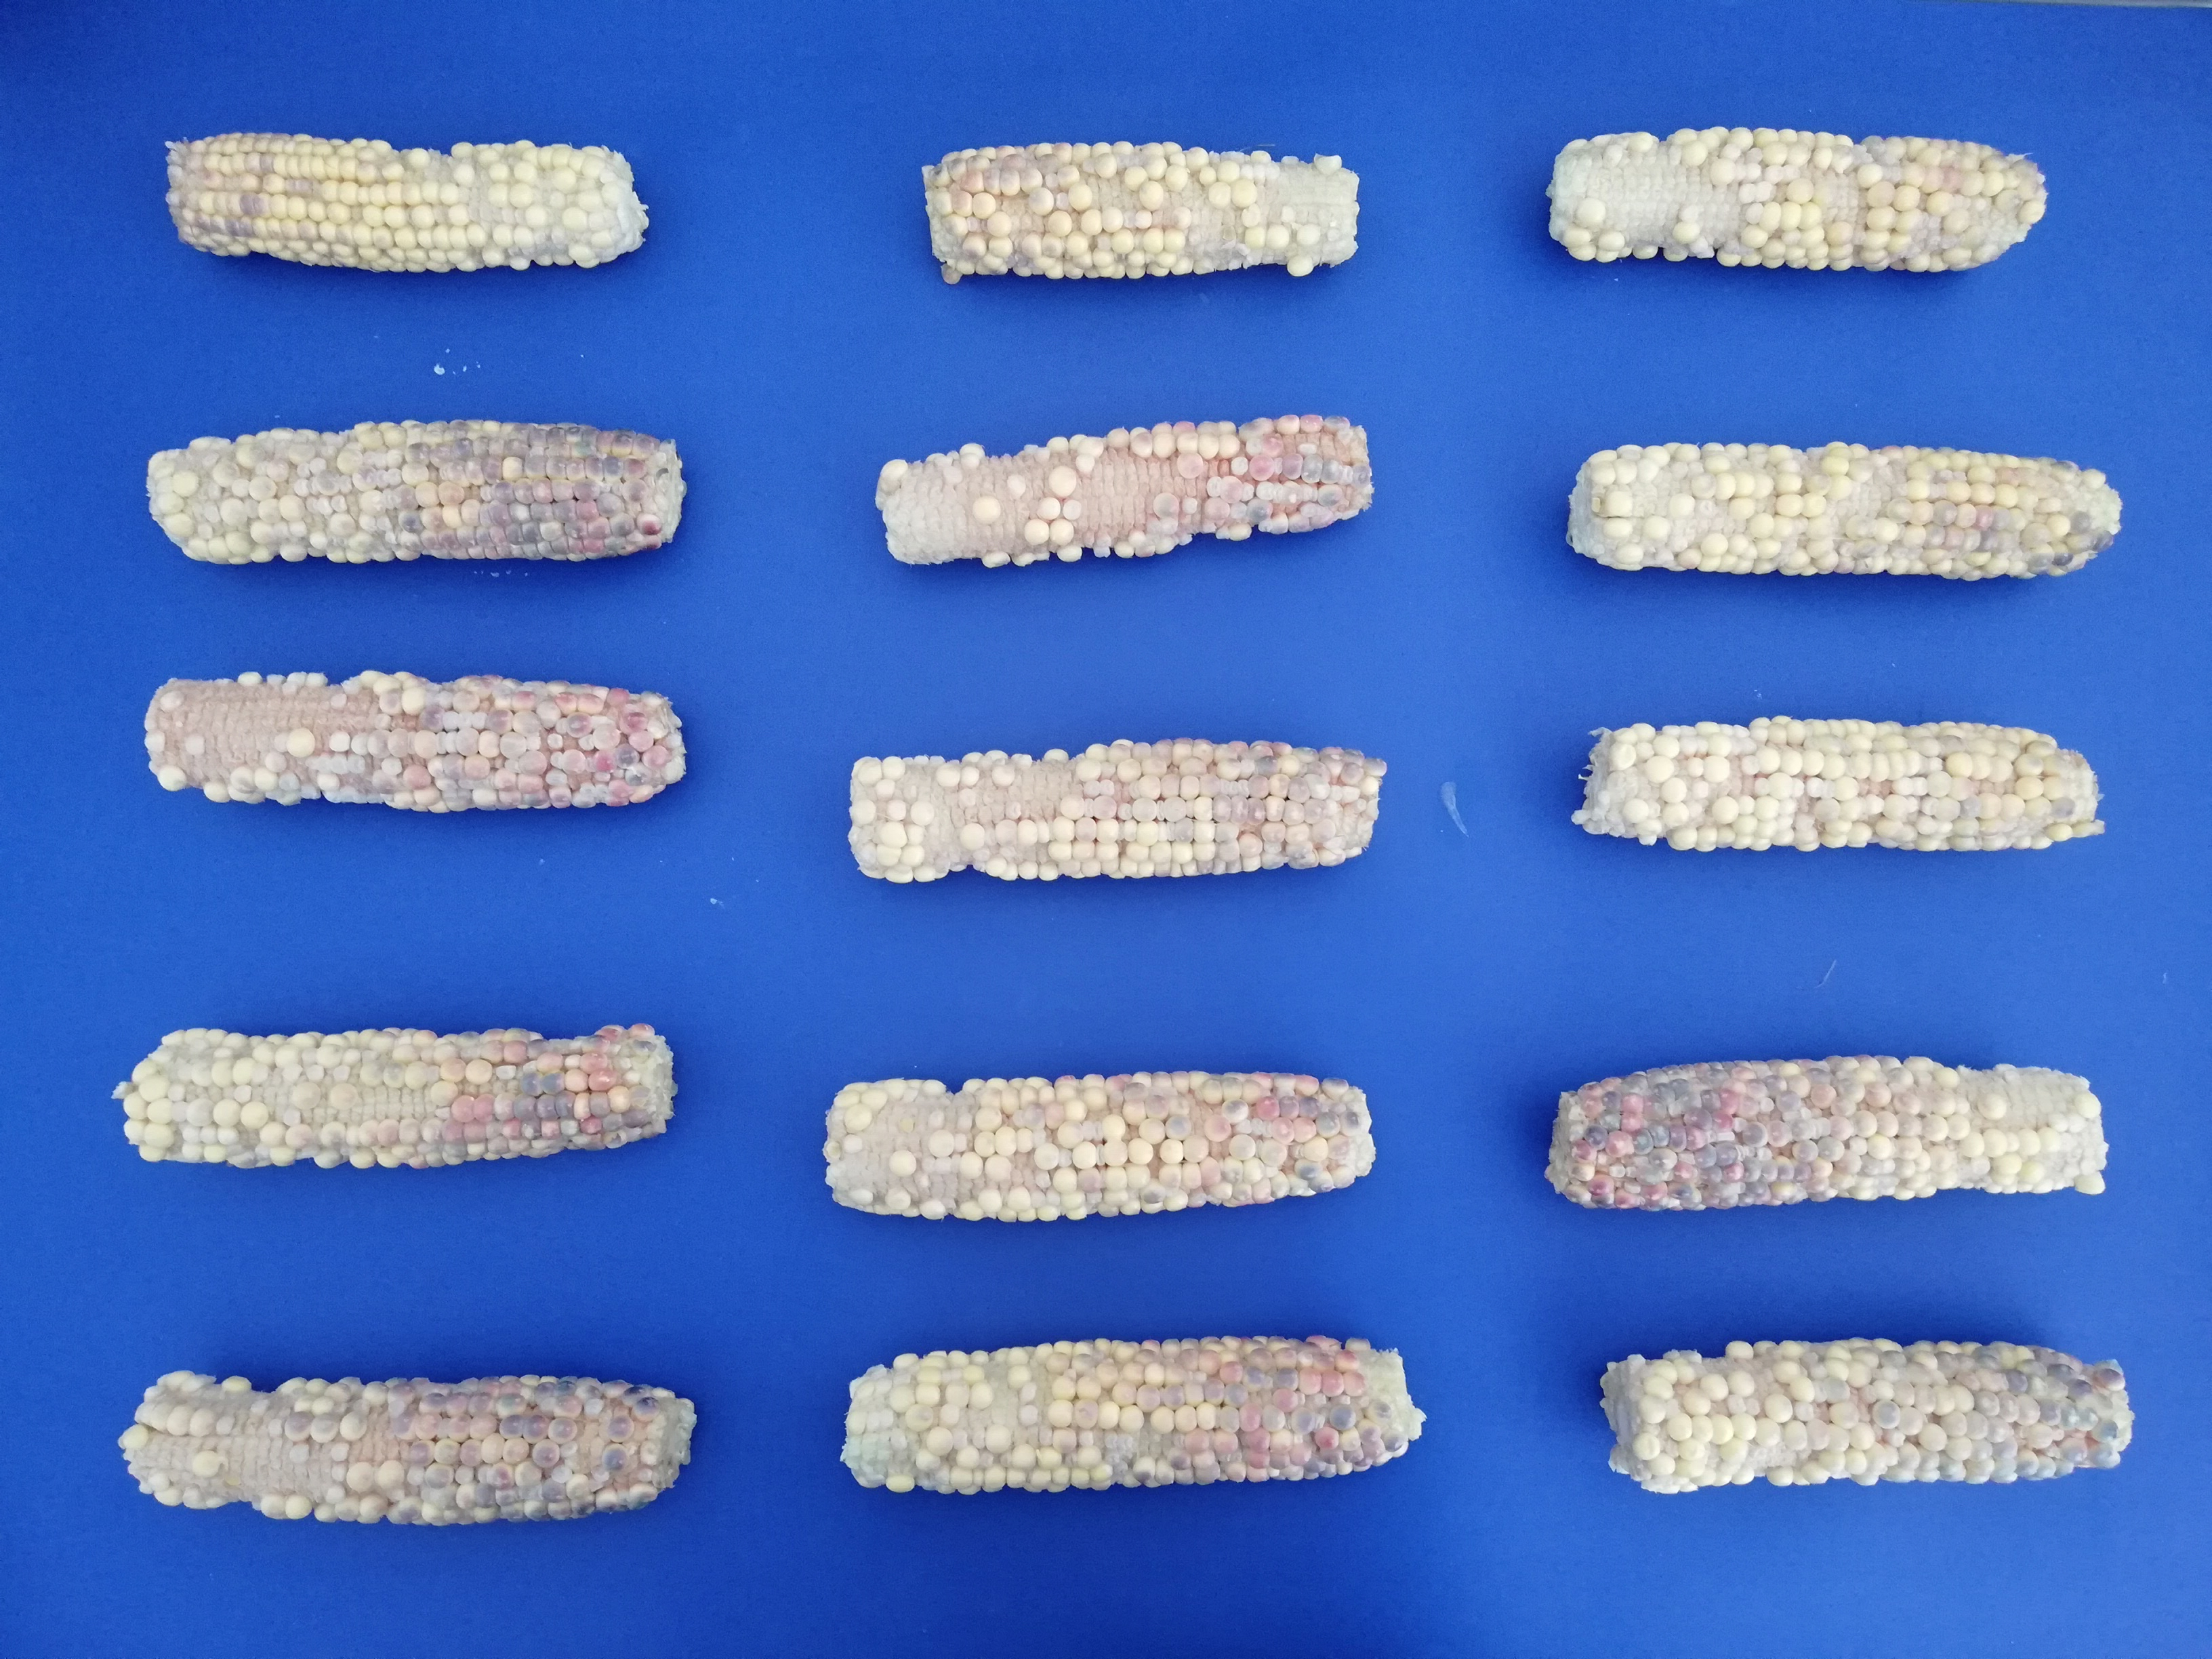corn: (284, 721, 319, 756), (336, 1408, 366, 1446), (1045, 464, 1073, 502), (1043, 1401, 1075, 1432), (1696, 1371, 1726, 1399), (463, 1061, 495, 1087), (1068, 185, 1096, 213), (927, 1425, 953, 1455), (1054, 791, 1080, 821), (247, 471, 275, 497), (1642, 512, 1669, 540), (1926, 1115, 1952, 1143), (1897, 183, 1919, 214), (1066, 1147, 1094, 1171), (244, 1103, 268, 1129), (451, 160, 472, 190), (1789, 176, 1811, 200), (1155, 430, 1174, 455), (1674, 216, 1695, 237), (1240, 183, 1258, 206)
ear: (115, 1364, 702, 1534), (113, 1018, 688, 1180), (1601, 1331, 2139, 1500), (1566, 436, 2125, 594), (869, 408, 1376, 572), (824, 1072, 1378, 1218), (162, 129, 657, 272), (1583, 721, 2109, 852), (920, 139, 1371, 291)
